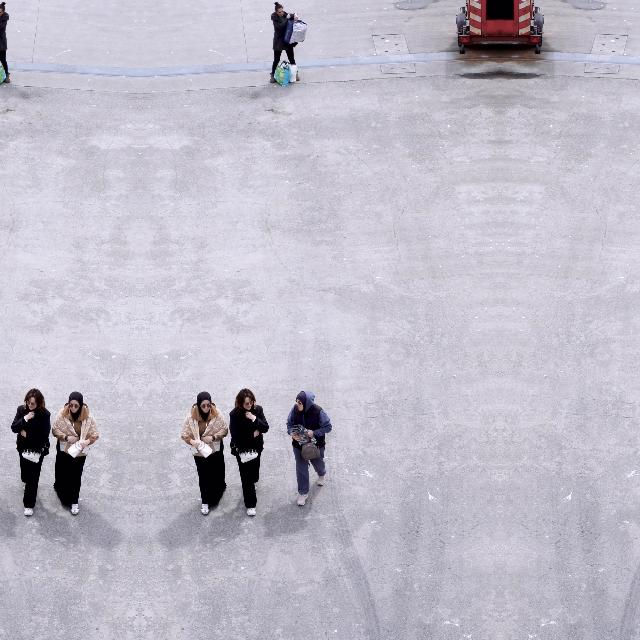person: (182, 391, 228, 515), (52, 391, 98, 515), (286, 390, 332, 506), (229, 388, 269, 516), (11, 388, 51, 516), (270, 2, 300, 84), (0, 2, 10, 84)
